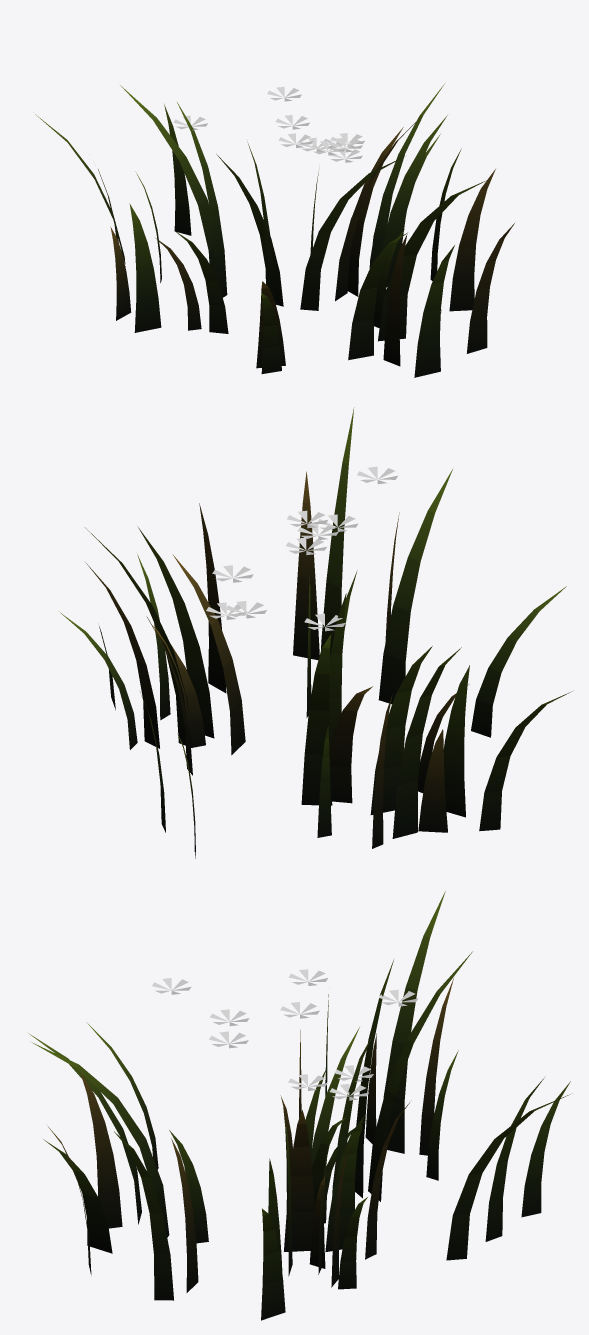
Rendered from SM_V2_Flowers_White.fbx.
3 views of the same model, one above another, from view 1: azimuth 30°, elevation 25°; view 2: azimuth 150°, elevation 25°; view 3: azimuth 270°, elevation 25° (orthographic). The views are drawn at different scales.
Visible parts, largest first — view 1: SM_V2_Flowers_White; view 2: SM_V2_Flowers_White; view 3: SM_V2_Flowers_White.
Part boxes in pixels (bbox=[...]): SM_V2_Flowers_White: bbox=[35, 84, 514, 377]; SM_V2_Flowers_White: bbox=[60, 407, 572, 858]; SM_V2_Flowers_White: bbox=[28, 891, 570, 1320].
Bounding box in the file's own units: 1.16 × 0.4621 × 0.9807.
